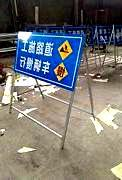sign: (16, 34, 78, 89)
